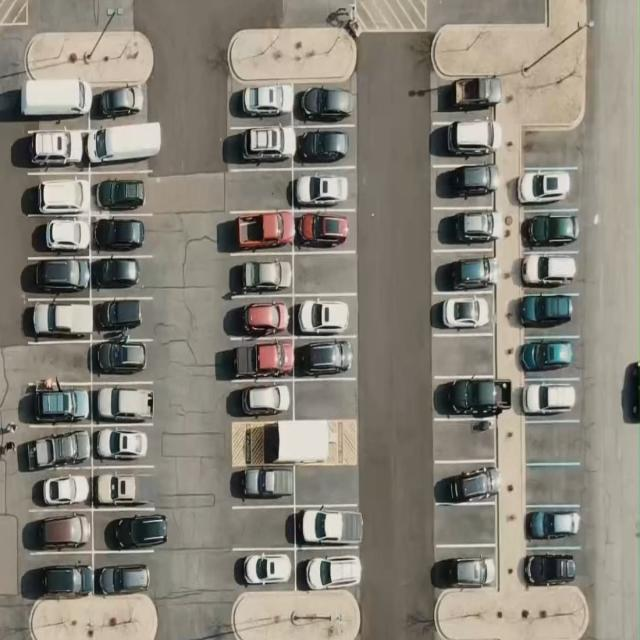space-empty: (228, 504, 295, 550), (24, 341, 92, 386), (434, 417, 500, 462), (225, 170, 293, 212), (433, 332, 496, 377), (293, 252, 357, 296), (434, 504, 498, 547), (293, 462, 357, 505), (293, 378, 357, 421), (520, 421, 584, 464), (524, 462, 584, 505), (521, 124, 582, 164)
space-occupied: (16, 75, 88, 131), (88, 118, 162, 169), (18, 120, 88, 172), (21, 422, 92, 473), (433, 374, 506, 422), (431, 114, 502, 161), (94, 508, 168, 553), (25, 377, 92, 426), (22, 169, 90, 216), (92, 464, 162, 509), (224, 125, 294, 170), (223, 253, 296, 296), (294, 502, 358, 551), (226, 375, 294, 421), (224, 294, 292, 340), (432, 206, 497, 254), (290, 206, 357, 252), (432, 548, 499, 594), (225, 209, 293, 254), (517, 375, 582, 421), (293, 546, 360, 590), (512, 290, 580, 333), (26, 509, 94, 552), (24, 256, 90, 300), (294, 336, 357, 382), (434, 290, 497, 336), (293, 293, 357, 338), (516, 164, 580, 209), (518, 207, 582, 252), (516, 248, 580, 293), (227, 82, 292, 126), (432, 164, 497, 208), (231, 544, 296, 588), (92, 382, 154, 428), (226, 336, 292, 379), (89, 170, 155, 213), (92, 421, 155, 466), (518, 332, 581, 377), (436, 460, 498, 505), (90, 215, 158, 256), (233, 461, 294, 506), (89, 257, 154, 299), (292, 168, 354, 212), (294, 82, 356, 126), (28, 215, 90, 258), (94, 553, 154, 597), (434, 252, 496, 294), (296, 126, 356, 169), (524, 504, 582, 548), (22, 470, 94, 505), (92, 338, 150, 381), (23, 304, 93, 339), (29, 560, 92, 598), (431, 72, 494, 110), (92, 298, 150, 338), (90, 85, 150, 122), (524, 548, 582, 586)
